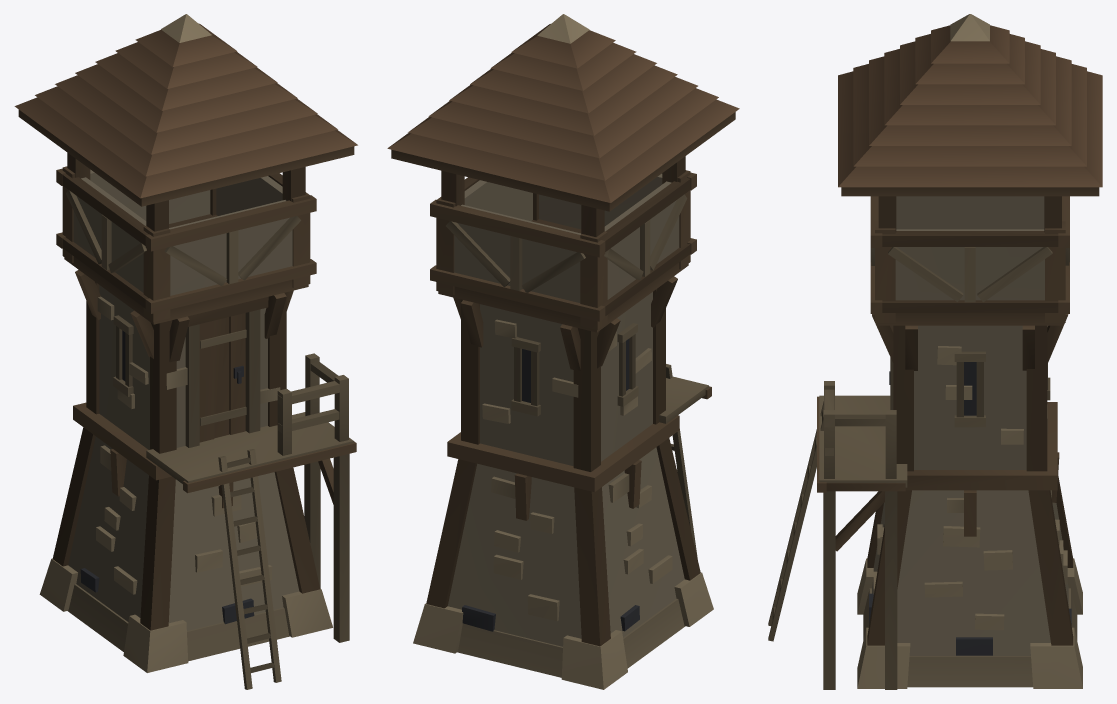
The model's file is b_watchtower.glb.
The picture shows the model from 3 angles, left to right: view 1: azimuth 30°, elevation 25°; view 2: azimuth 150°, elevation 25°; view 3: azimuth 270°, elevation 25°; orthographic projection. The views are drawn at different scales.
Parts seen in each view (by area): view 1: b_watchtower; view 2: b_watchtower; view 3: b_watchtower.
Boxes of the visible parts, <box> form: b_watchtower: <box>14,14,357,689</box>; b_watchtower: <box>387,14,739,689</box>; b_watchtower: <box>768,14,1102,689</box>.
Size of the model in its own units: 3.61 by 9.45 by 4.56.
